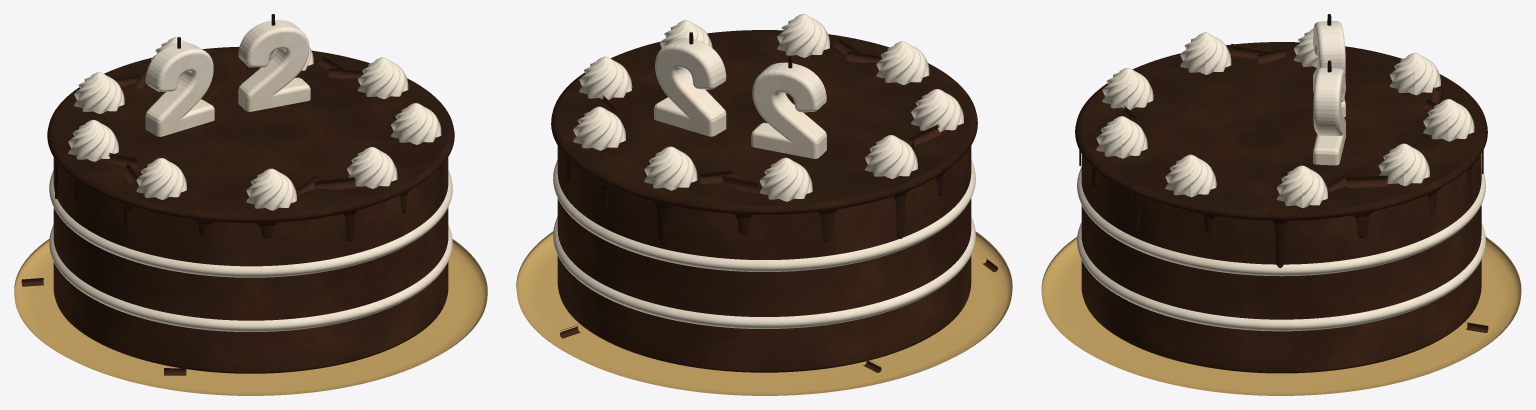
File: birthday_cake_cut.glb
3 views of the same model, side by side, from view 1: azimuth 30°, elevation 25°; view 2: azimuth 150°, elevation 25°; view 3: azimuth 270°, elevation 25° (orthographic). The views are drawn at different scales.
Parts seen in each view (by area): view 1: main_chocolate_sponge, main_chocolate_ganache, board_champagne_gold_plate, main_piped_cream, main_ivory_cream, candle_2b_body, candle_2a_body, slice_chocolate_ganache, main_chocolate_curl, slice_chocolate_sponge, slice_piped_cream, slice_ivory_cream; view 2: main_chocolate_sponge, main_chocolate_ganache, board_champagne_gold_plate, main_piped_cream, main_ivory_cream, candle_2a_body, candle_2b_body, slice_chocolate_ganache, main_chocolate_curl, slice_piped_cream; view 3: main_chocolate_ganache, main_chocolate_sponge, board_champagne_gold_plate, slice_chocolate_sponge, main_piped_cream, main_ivory_cream, slice_chocolate_ganache, candle_2b_body, slice_ivory_cream, main_chocolate_curl, slice_piped_cream, candle_2a_body.
Boxes of the visible parts, box(x1,y1,x2,y2) form: main_chocolate_sponge: box(53, 157, 433, 373); main_chocolate_ganache: box(47, 46, 445, 241); board_champagne_gold_plate: box(14, 239, 487, 395); main_piped_cream: box(68, 37, 408, 210); main_ivory_cream: box(49, 170, 437, 331); candle_2b_body: box(238, 20, 310, 111); candle_2a_body: box(145, 42, 214, 136); slice_chocolate_ganache: box(251, 107, 454, 200); main_chocolate_curl: box(108, 53, 360, 194); slice_chocolate_sponge: box(433, 157, 448, 320); slice_piped_cream: box(391, 103, 441, 144); slice_ivory_cream: box(434, 170, 452, 275); main_chocolate_sponge: box(557, 146, 971, 372); main_chocolate_ganache: box(551, 30, 977, 243); board_champagne_gold_plate: box(516, 231, 1012, 395); main_piped_cream: box(573, 14, 963, 201); main_ivory_cream: box(553, 160, 975, 328); candle_2a_body: box(751, 62, 826, 158); candle_2b_body: box(654, 38, 726, 136); slice_chocolate_ganache: box(614, 31, 760, 115); main_chocolate_curl: box(583, 38, 942, 193); slice_piped_cream: box(660, 20, 712, 47); main_chocolate_ganache: box(1075, 42, 1487, 268); main_chocolate_sponge: box(1081, 154, 1481, 373); board_champagne_gold_plate: box(1041, 237, 1521, 395); slice_chocolate_sponge: box(1124, 189, 1233, 370); main_piped_cream: box(1096, 28, 1474, 208); main_ivory_cream: box(1077, 167, 1485, 331); slice_chocolate_ganache: box(1119, 127, 1280, 234); candle_2b_body: box(1313, 67, 1345, 165); slice_ivory_cream: box(1120, 232, 1233, 328); main_chocolate_curl: box(1103, 43, 1443, 191); slice_piped_cream: box(1165, 154, 1216, 197); candle_2a_body: box(1313, 21, 1345, 117).
Size of the model in its own units: 0.3 by 0.1795 by 0.3.
Materials: 9 (5 with a texture image).
